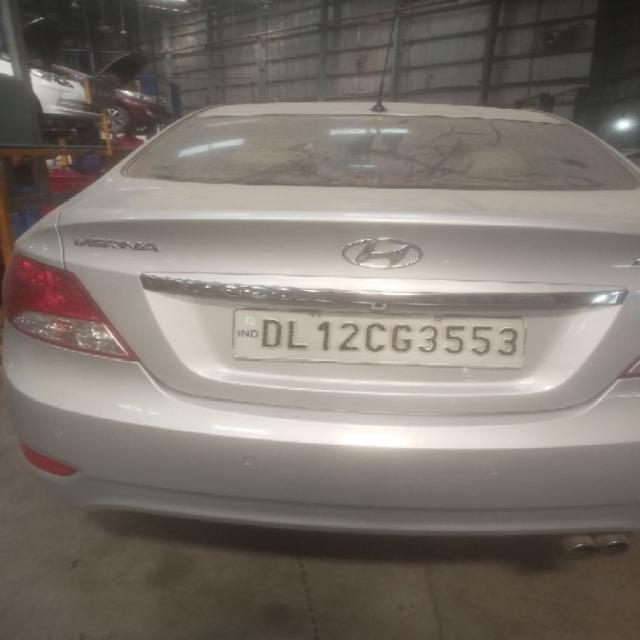license_plate: (230, 307, 527, 369)
